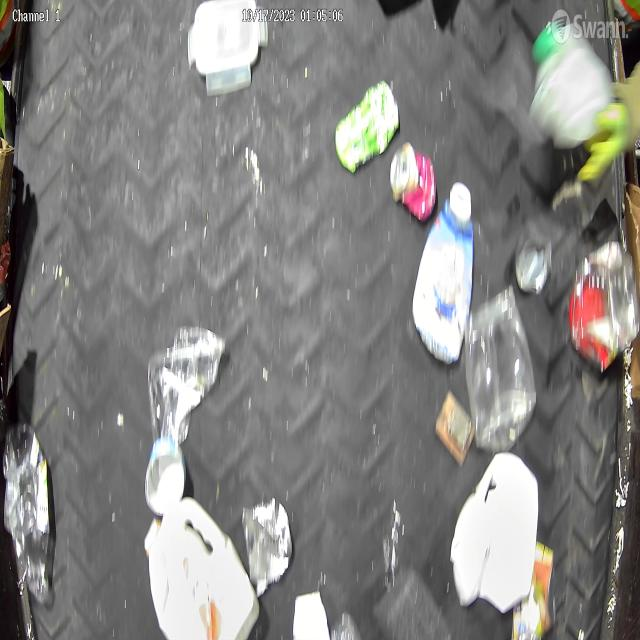can: (241, 498, 292, 594), (389, 140, 436, 220)
milk_jug: (452, 453, 540, 614)
non_white_jug: (144, 493, 258, 640)
plastic_bottle: (4, 419, 49, 601)
